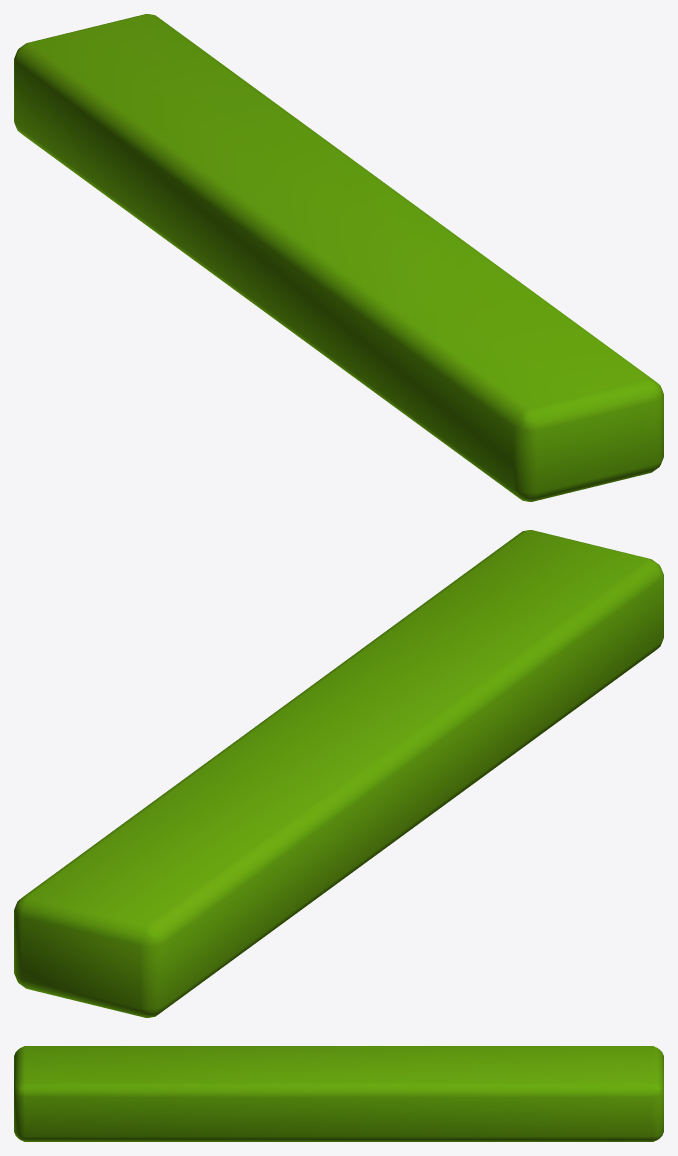
File: LongBlockGreen.fbx
3 views of the same model, one above another, from view 1: azimuth 30°, elevation 25°; view 2: azimuth 150°, elevation 25°; view 3: azimuth 270°, elevation 25° (orthographic). The views are drawn at different scales.
Parts seen in each view (by area): view 1: LongBlock; view 2: LongBlock; view 3: LongBlock.
Boxes of the visible parts, box(x1,y1,x2,y2) form: LongBlock: box(14, 14, 663, 501); LongBlock: box(14, 530, 663, 1017); LongBlock: box(14, 1046, 663, 1141).
Bounding box in the file's own units: 2 × 1.2 × 12.
